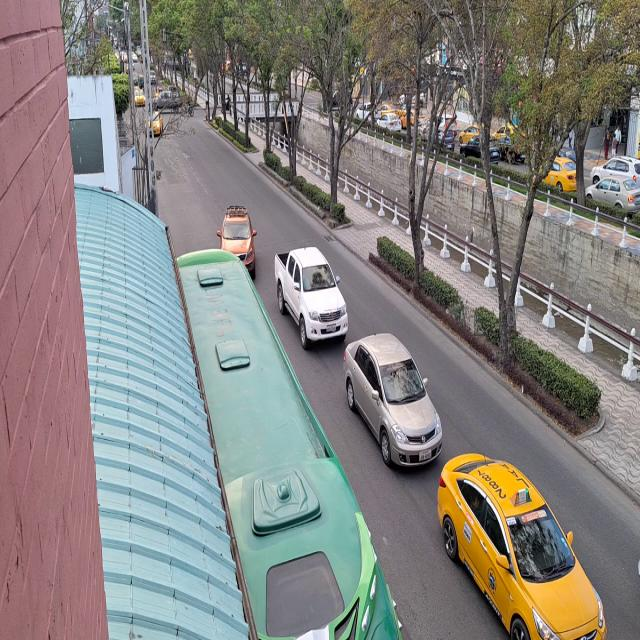CMT: (277, 251, 351, 344)
SED: (443, 456, 613, 640), (344, 334, 442, 469)
